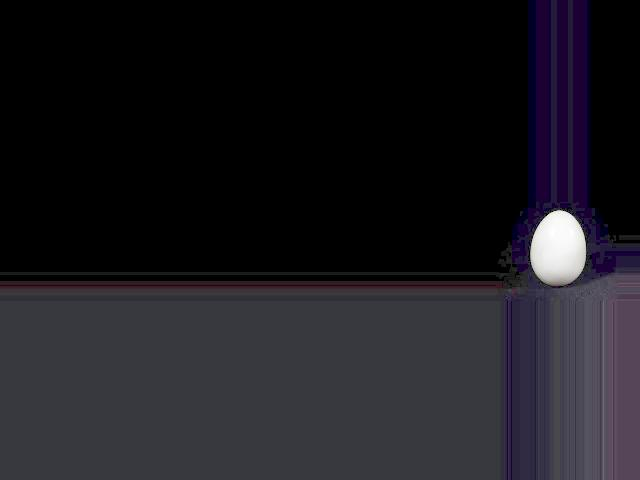egg: (531, 211, 585, 287)
